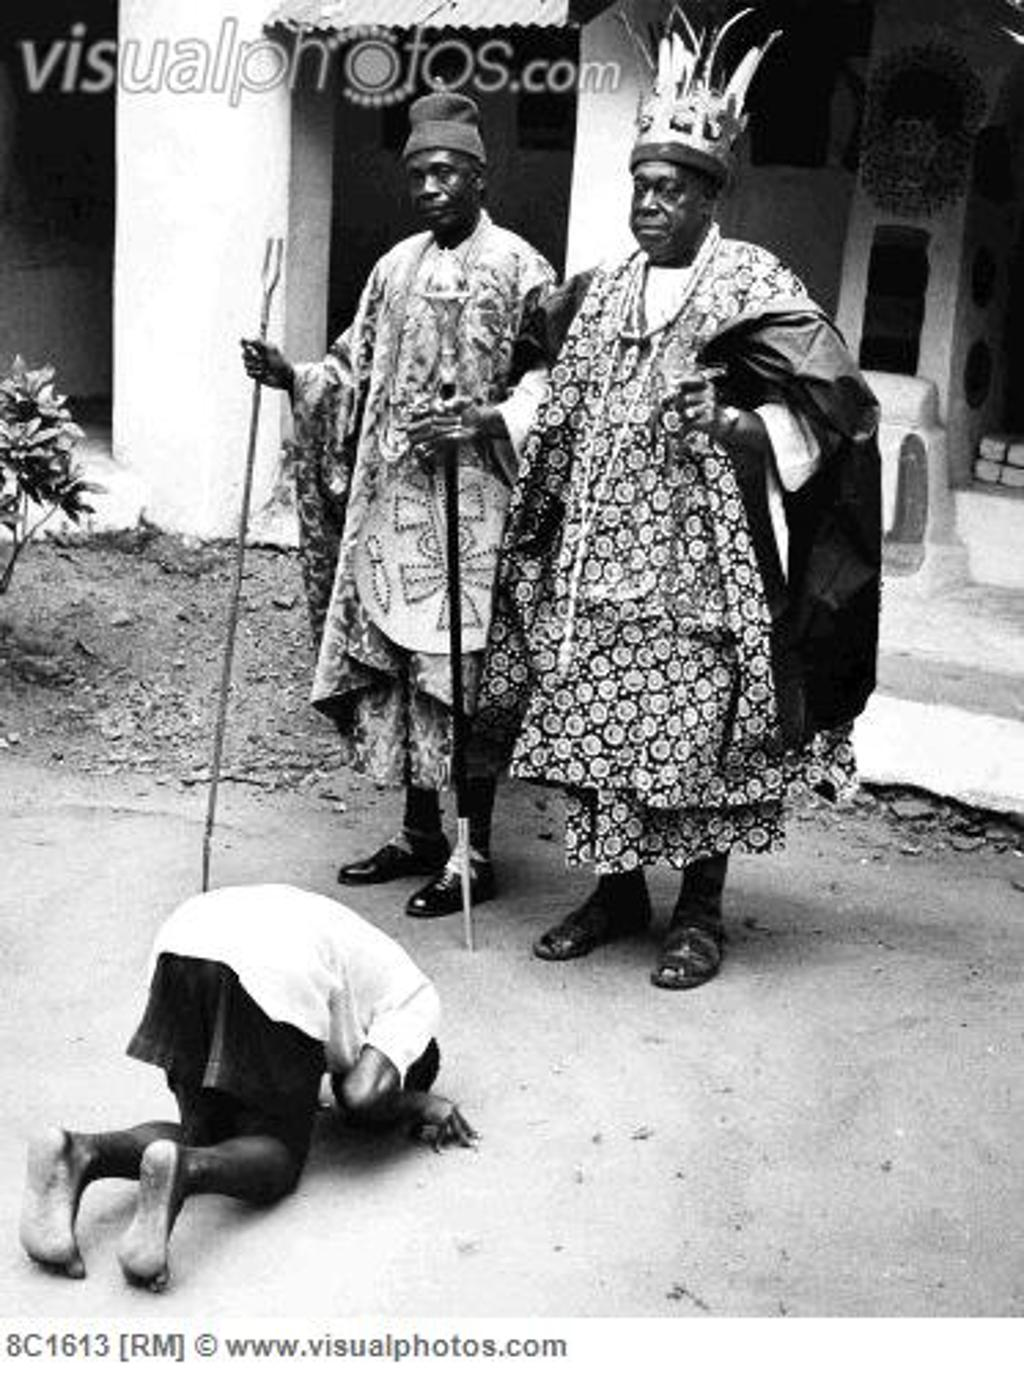face: (633, 145, 708, 260), (407, 137, 477, 234)
